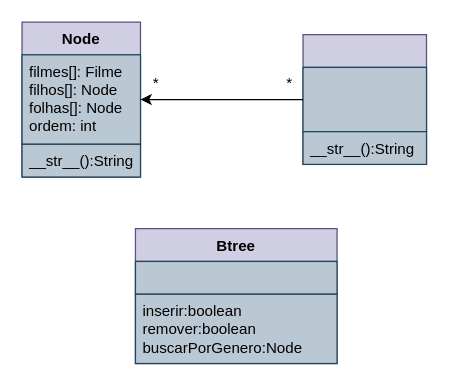
The diagram is 449 pixels wide and 389 high, and some of its shapes have lost their labels. Here are the shapes that lost their labels. From the top down, the box of each, then its label:
(302, 33, 427, 164): Filme
(302, 66, 427, 132): titulo: String ano: int genero: String
(134, 260, 337, 294): ordem: int
